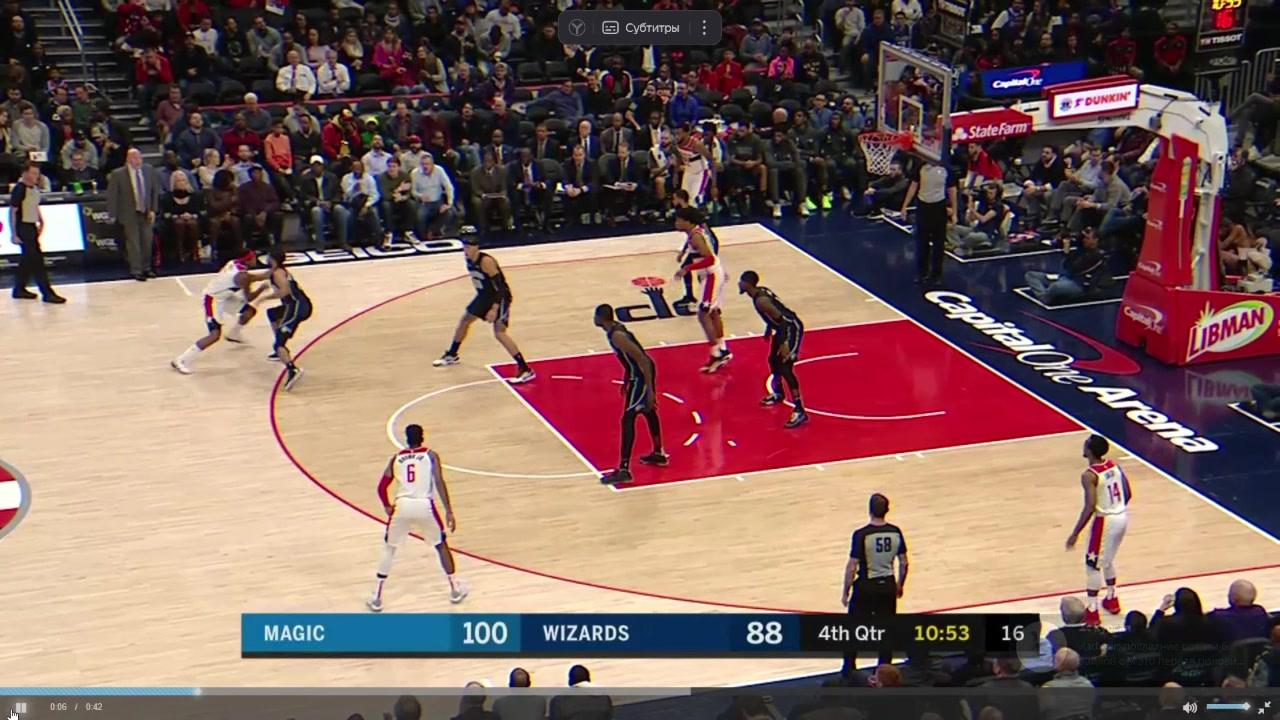no_foul: (191, 239, 326, 398)
